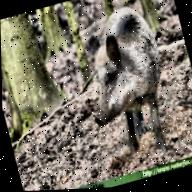boar: (65, 0, 187, 162)
